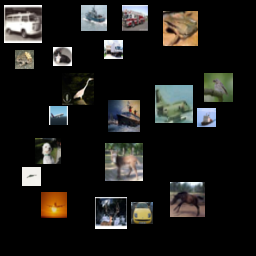airplane: (155, 85, 193, 123), (41, 192, 67, 218), (22, 167, 41, 186), (49, 106, 68, 125)
automobile: (4, 5, 42, 43), (131, 202, 153, 224)
bird: (62, 73, 94, 105), (204, 73, 233, 102)
cat: (53, 47, 72, 66)
deer: (105, 143, 143, 181), (95, 197, 127, 229)
dog: (35, 138, 61, 164)
frog: (163, 11, 198, 46), (15, 50, 34, 69)
ship: (108, 100, 140, 132), (81, 5, 107, 31), (197, 108, 216, 127)
